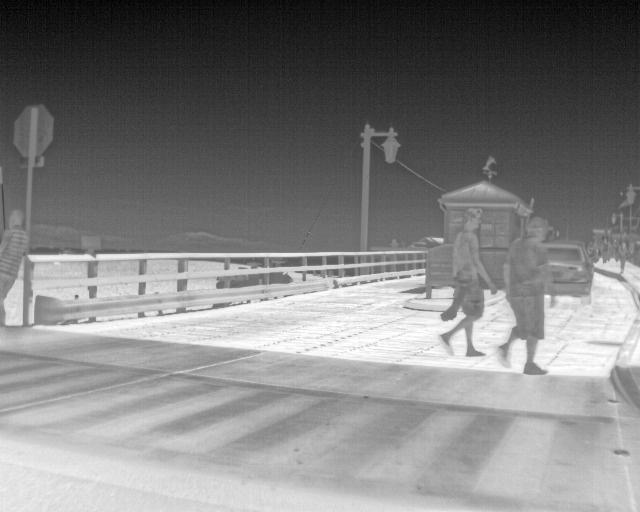bicycle: (539, 240, 594, 303)
empty: (496, 216, 555, 376), (438, 209, 498, 360), (0, 208, 27, 324), (617, 240, 630, 273), (598, 236, 611, 265)
